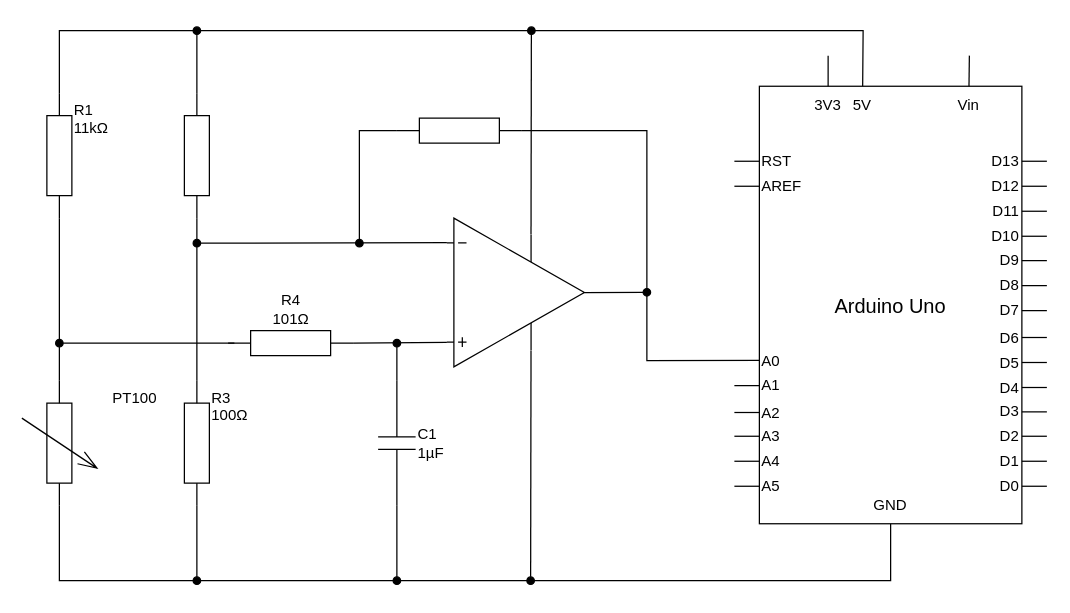
Image size: 1070x613. Some labels were removed from this diagram. Each missing label, with the centre of its shape:
"LM358" belongs at point 515,292.
"R2 11kΩ" belongs at point 196,155.
"R5 20KΩ" belongs at point 459,130.
